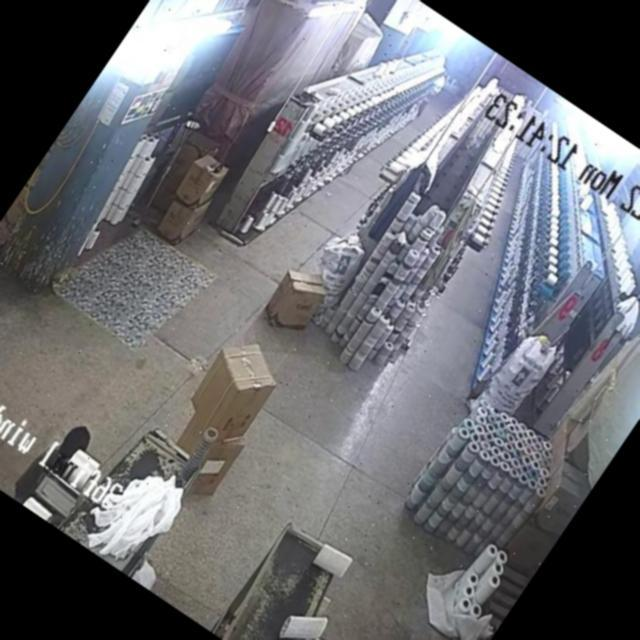person: (7, 405, 101, 516)
